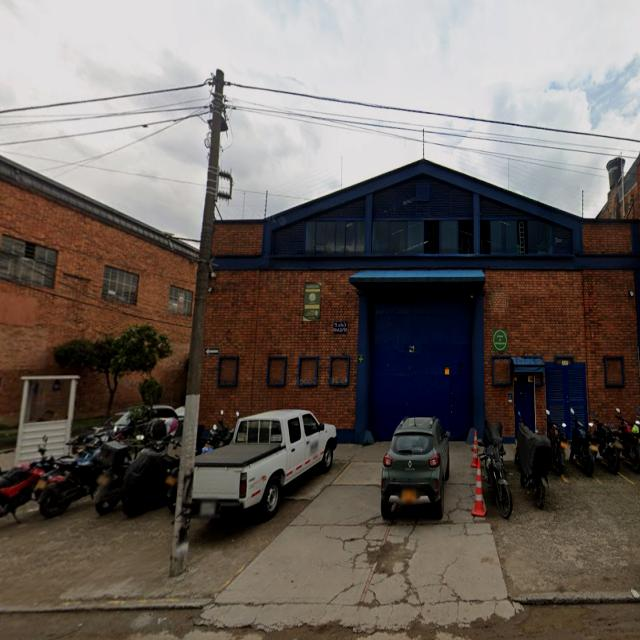fachada: (200, 161, 639, 441), (0, 159, 196, 425), (596, 156, 639, 219)
poste: (169, 70, 222, 576), (620, 156, 624, 218), (263, 191, 266, 218), (581, 190, 582, 218)
